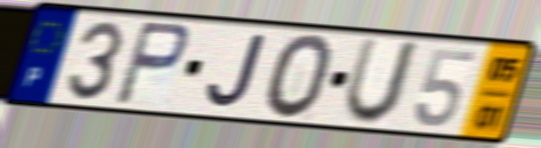3: (64, 18, 127, 103)
5: (411, 46, 479, 130)
J: (203, 32, 269, 112)
O: (261, 31, 336, 123)
P: (111, 18, 193, 109)
U: (339, 34, 425, 129)
